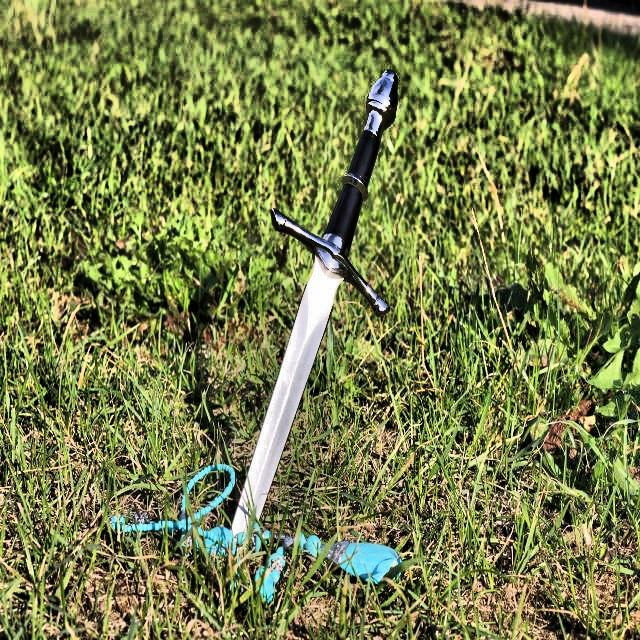knife: (228, 64, 409, 544)
